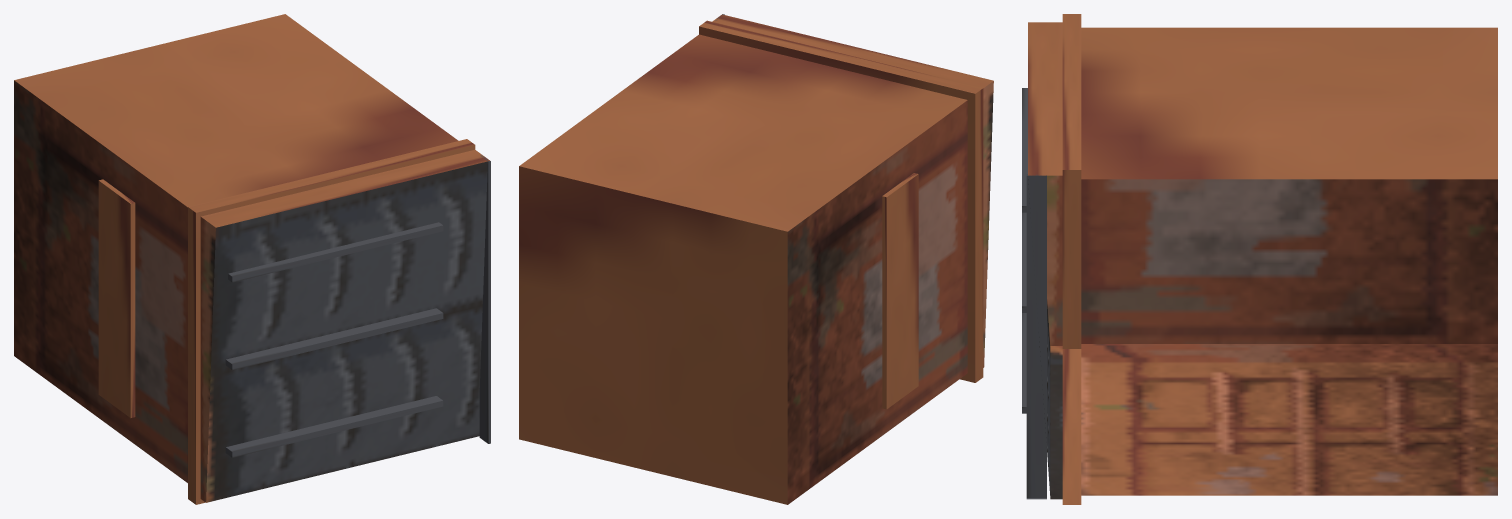
Rendered from pz_g020_trashcontainers_01_orange_dumpster_part1.obj.
3 renders of one model, left to right at view 1: azimuth 30°, elevation 25°; view 2: azimuth 150°, elevation 25°; view 3: azimuth 270°, elevation 25°, orthographic. The views are drawn at different scales.
Visible parts, largest first — view 1: closed_lid_top, dumpster_body_front, dumpster_body_right, side_lift_bar_right, closed_lid_rear, lid_rib_top, lid_rib_front, closed_lid_right, upper_lip_top, upper_lip_front, upper_lip_right, lid_split_right (+2 smaller); view 2: dumpster_body_bottom, dumpster_body_front, dumpster_body_right, side_lift_bar_right, upper_lip_bottom, closed_lid_rear, upper_lip_right, upper_lip_front, closed_lid_right, side_lift_bar_bottom; view 3: dumpster_body_right, dumpster_body_front, dumpster_body_rear, lid_split_right, closed_lid_rear, upper_lip_right, upper_lip_front, upper_lip_rear, closed_lid_right, closed_lid_front, lid_rib_front, closed_lid_top.
Boxes of the visible parts, bbox=[...] form: closed_lid_top: bbox=[206, 161, 487, 502]; dumpster_body_front: bbox=[14, 14, 458, 207]; dumpster_body_right: bbox=[14, 80, 187, 482]; side_lift_bar_right: bbox=[98, 181, 130, 417]; closed_lid_rear: bbox=[201, 150, 489, 227]; lid_rib_top: bbox=[232, 225, 443, 457]; lid_rib_front: bbox=[226, 222, 442, 451]; closed_lid_right: bbox=[200, 217, 215, 502]; upper_lip_top: bbox=[196, 145, 475, 504]; upper_lip_front: bbox=[188, 139, 474, 212]; upper_lip_right: bbox=[188, 207, 195, 504]; lid_split_right: bbox=[479, 162, 488, 443]; dumpster_body_bottom: bbox=[519, 166, 787, 504]; dumpster_body_front: bbox=[519, 34, 967, 231]; dumpster_body_right: bbox=[787, 100, 967, 504]; side_lift_bar_right: bbox=[886, 174, 918, 408]; upper_lip_bottom: bbox=[699, 26, 975, 382]; closed_lid_rear: bbox=[712, 14, 993, 87]; upper_lip_right: bbox=[975, 88, 983, 382]; upper_lip_front: bbox=[699, 20, 982, 93]; closed_lid_right: bbox=[983, 81, 993, 367]; side_lift_bar_bottom: bbox=[882, 196, 886, 409]; dumpster_body_right: bbox=[1081, 179, 1497, 343]; dumpster_body_front: bbox=[1081, 27, 1497, 179]; dumpster_body_rear: bbox=[1081, 344, 1497, 495]; lid_split_right: bbox=[1026, 175, 1046, 497]; closed_lid_rear: bbox=[1028, 22, 1062, 175]; upper_lip_right: bbox=[1062, 170, 1081, 348]; upper_lip_front: bbox=[1062, 14, 1081, 169]; upper_lip_rear: bbox=[1062, 349, 1081, 504]; closed_lid_right: bbox=[1047, 175, 1062, 345]; closed_lid_front: bbox=[1050, 346, 1062, 499]; lid_rib_front: bbox=[1022, 88, 1027, 406]; closed_lid_top: bbox=[1028, 179, 1050, 495].
Bounding box in the file's own units: 0.9 × 0.9 × 1.16.
1 material, 1 textured.
